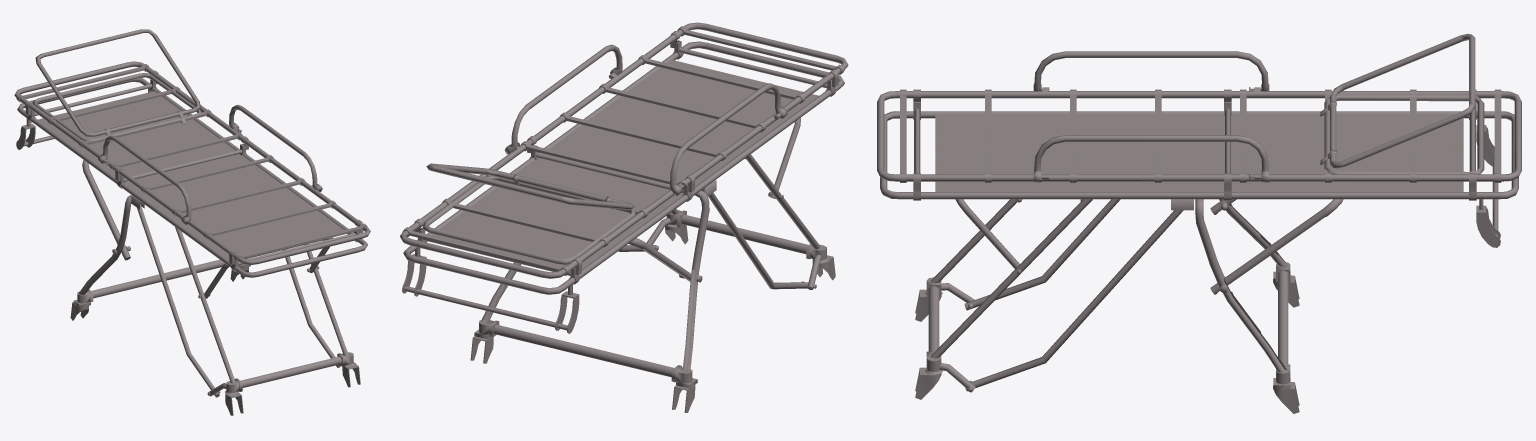
The model's file is 128_Stretcher.fbx.
3 views of the same model, side by side, from view 1: azimuth 30°, elevation 25°; view 2: azimuth 150°, elevation 25°; view 3: azimuth 270°, elevation 25° (orthographic). The views are drawn at different scales.
Parts seen in each view (by area): view 1: LOD_1_Group_0_Sub_1__sm30_128_Stretcher01A_A_Mat, LOD_1_Group_2_Sub_1__sm30_128_Stretcher01A_A_Mat, LOD_1_Group_3_Sub_1__sm30_128_Stretcher01A_A_Mat; view 2: LOD_1_Group_0_Sub_1__sm30_128_Stretcher01A_A_Mat, LOD_1_Group_2_Sub_1__sm30_128_Stretcher01A_A_Mat, LOD_1_Group_3_Sub_1__sm30_128_Stretcher01A_A_Mat; view 3: LOD_1_Group_0_Sub_1__sm30_128_Stretcher01A_A_Mat, LOD_1_Group_2_Sub_1__sm30_128_Stretcher01A_A_Mat, LOD_1_Group_3_Sub_1__sm30_128_Stretcher01A_A_Mat.
Part boxes in pixels (<box>): LOD_1_Group_0_Sub_1__sm30_128_Stretcher01A_A_Mat: <box>14,61,370,415</box>; LOD_1_Group_2_Sub_1__sm30_128_Stretcher01A_A_Mat: <box>35,29,200,136</box>; LOD_1_Group_3_Sub_1__sm30_128_Stretcher01A_A_Mat: <box>32,73,201,143</box>; LOD_1_Group_0_Sub_1__sm30_128_Stretcher01A_A_Mat: <box>400,22,848,412</box>; LOD_1_Group_2_Sub_1__sm30_128_Stretcher01A_A_Mat: <box>426,163,634,210</box>; LOD_1_Group_3_Sub_1__sm30_128_Stretcher01A_A_Mat: <box>422,175,636,264</box>; LOD_1_Group_0_Sub_1__sm30_128_Stretcher01A_A_Mat: <box>877,51,1521,413</box>; LOD_1_Group_2_Sub_1__sm30_128_Stretcher01A_A_Mat: <box>1327,33,1475,168</box>; LOD_1_Group_3_Sub_1__sm30_128_Stretcher01A_A_Mat: <box>1320,94,1484,174</box>.
Size of the model in its own units: 0.964 by 1.26 by 2.29.
